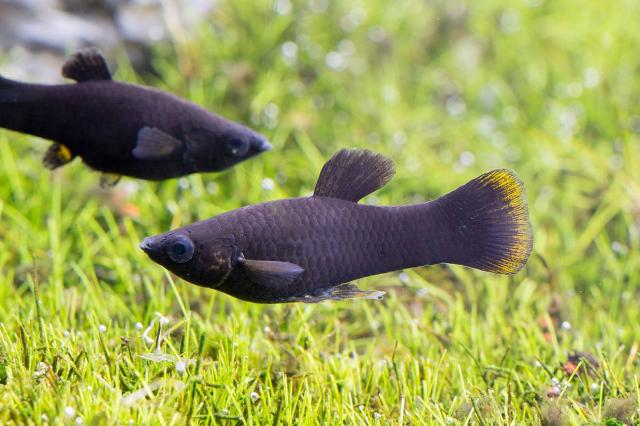Mulut: (120, 224, 174, 282), (239, 121, 283, 170)
Sirip Anal: (335, 274, 401, 316), (34, 138, 78, 178)
Sirip Dada: (234, 249, 308, 295), (130, 122, 188, 164)
Sirip Ekor: (442, 156, 540, 288)
Sirip Perut: (283, 284, 329, 320), (90, 162, 132, 194)
Sirip Punggung: (310, 142, 402, 213), (57, 44, 119, 86)
